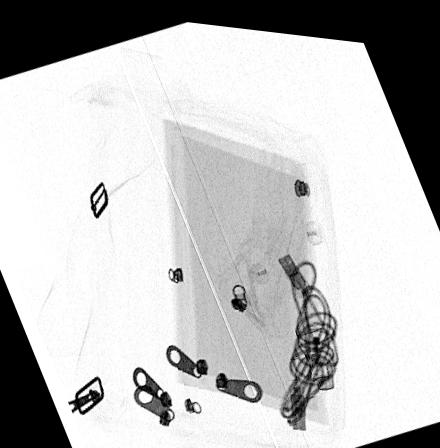Lighter: (307, 320, 334, 382)
